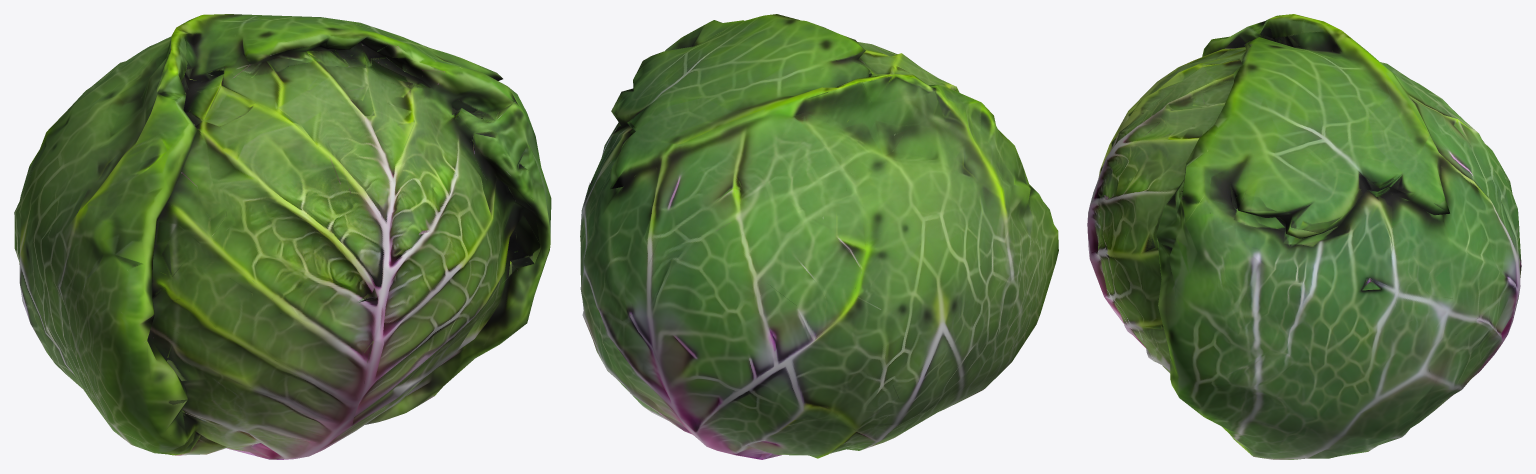
Rendered from poke_ball_09cabbage.glb.
3 renders of one model, left to right at view 1: azimuth 30°, elevation 25°; view 2: azimuth 150°, elevation 25°; view 3: azimuth 270°, elevation 25°, orthographic. The views are drawn at different scales.
Size of the model in its own units: 1.91 by 1.77 by 1.82.
1 material, 1 textured.
